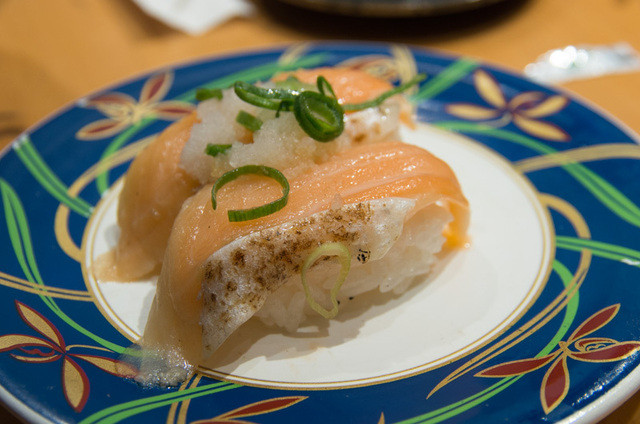salmon: (140, 140, 468, 385)
